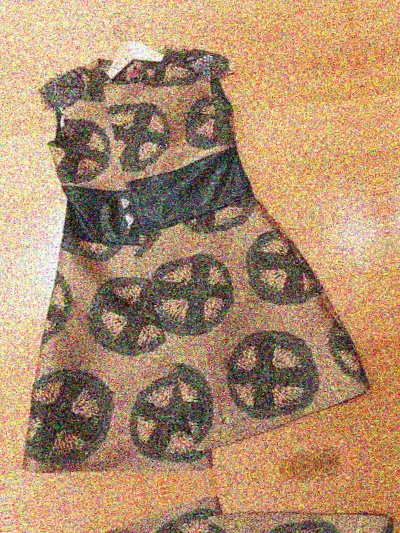Dress: (0, 0, 393, 498), (21, 469, 400, 533), (375, 0, 400, 423)
